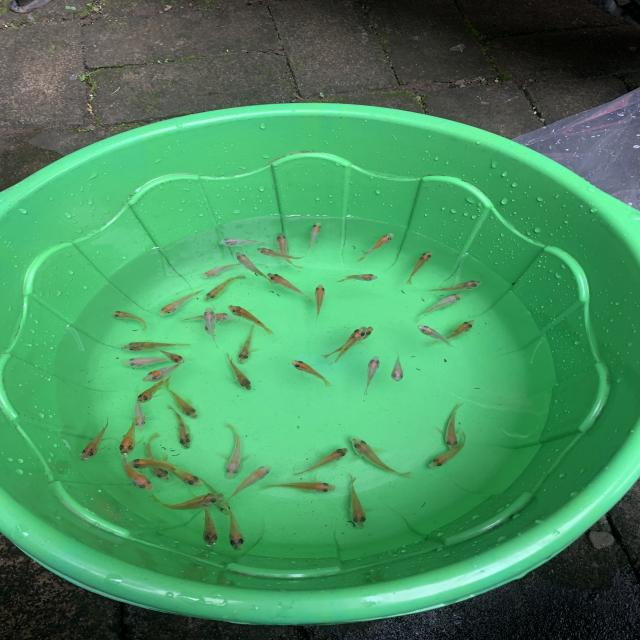nila: (344, 432, 416, 480), (222, 461, 278, 507), (286, 443, 356, 479), (436, 398, 474, 453), (322, 324, 378, 360), (224, 300, 278, 337), (341, 470, 372, 534), (190, 476, 237, 518), (260, 268, 313, 305), (157, 451, 207, 488), (155, 286, 209, 319), (233, 248, 277, 288), (329, 324, 368, 369), (80, 414, 114, 464), (429, 315, 478, 349), (144, 428, 173, 485), (114, 451, 154, 492), (427, 430, 467, 471), (148, 492, 225, 513), (219, 500, 249, 553), (288, 356, 337, 388), (204, 272, 252, 304), (161, 380, 199, 420), (354, 231, 396, 265), (416, 292, 467, 320), (167, 403, 196, 452), (220, 421, 242, 485), (254, 481, 340, 497), (139, 358, 194, 383), (119, 352, 182, 373), (222, 354, 255, 392), (416, 322, 460, 350), (360, 351, 386, 398), (274, 230, 304, 270), (196, 503, 220, 552), (136, 374, 172, 406), (405, 249, 436, 286), (197, 259, 251, 280), (110, 309, 154, 333), (114, 340, 200, 352), (116, 416, 140, 459), (130, 387, 151, 435), (254, 243, 307, 262), (124, 455, 181, 472), (203, 304, 223, 350), (309, 283, 332, 323), (427, 277, 484, 293), (236, 323, 256, 364), (152, 344, 191, 365), (180, 310, 238, 324), (305, 220, 327, 252), (215, 236, 267, 249), (334, 271, 379, 285), (388, 349, 405, 386), (202, 302, 219, 336)
